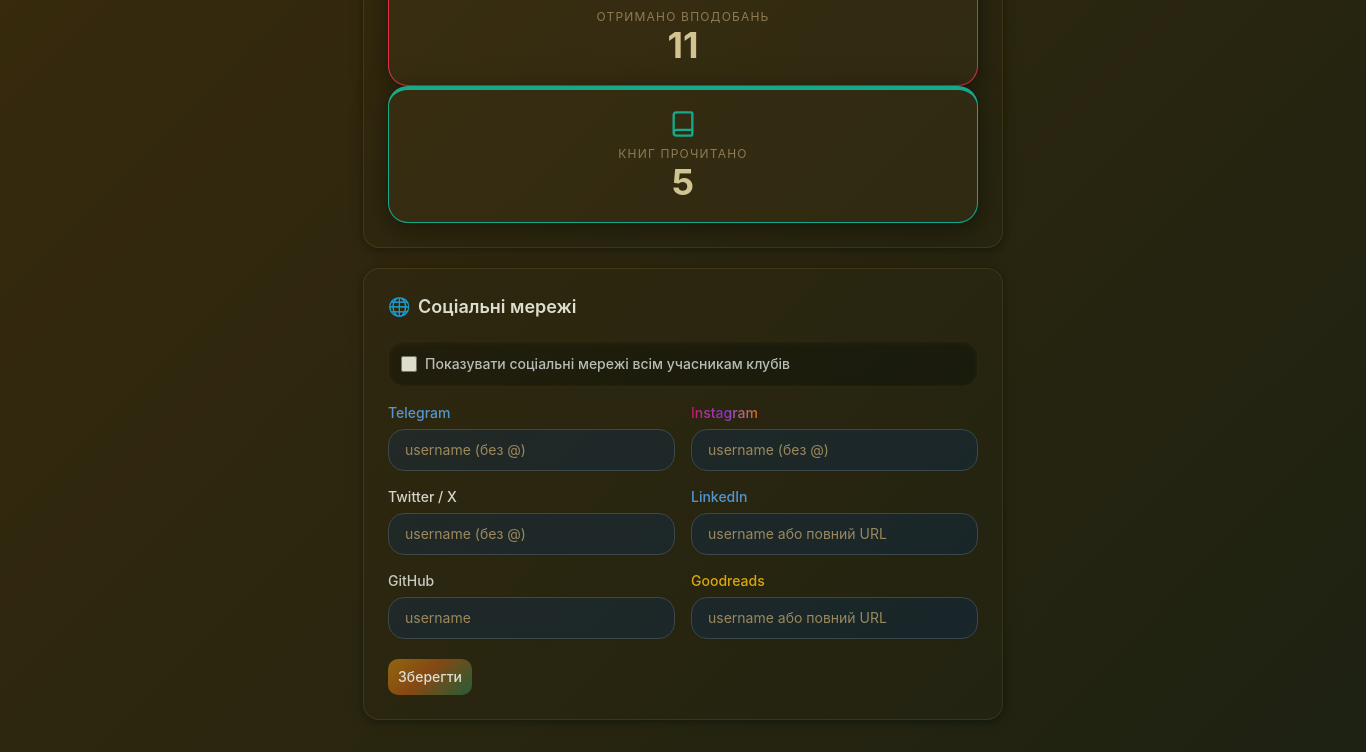
Test: ProfileView › social links › sends only the filled inputs, toasts, and refreshes the session
(page scrolled)
In the field with test id "social-telegram": (532, 450) [388, 429, 675, 471], type "ada"
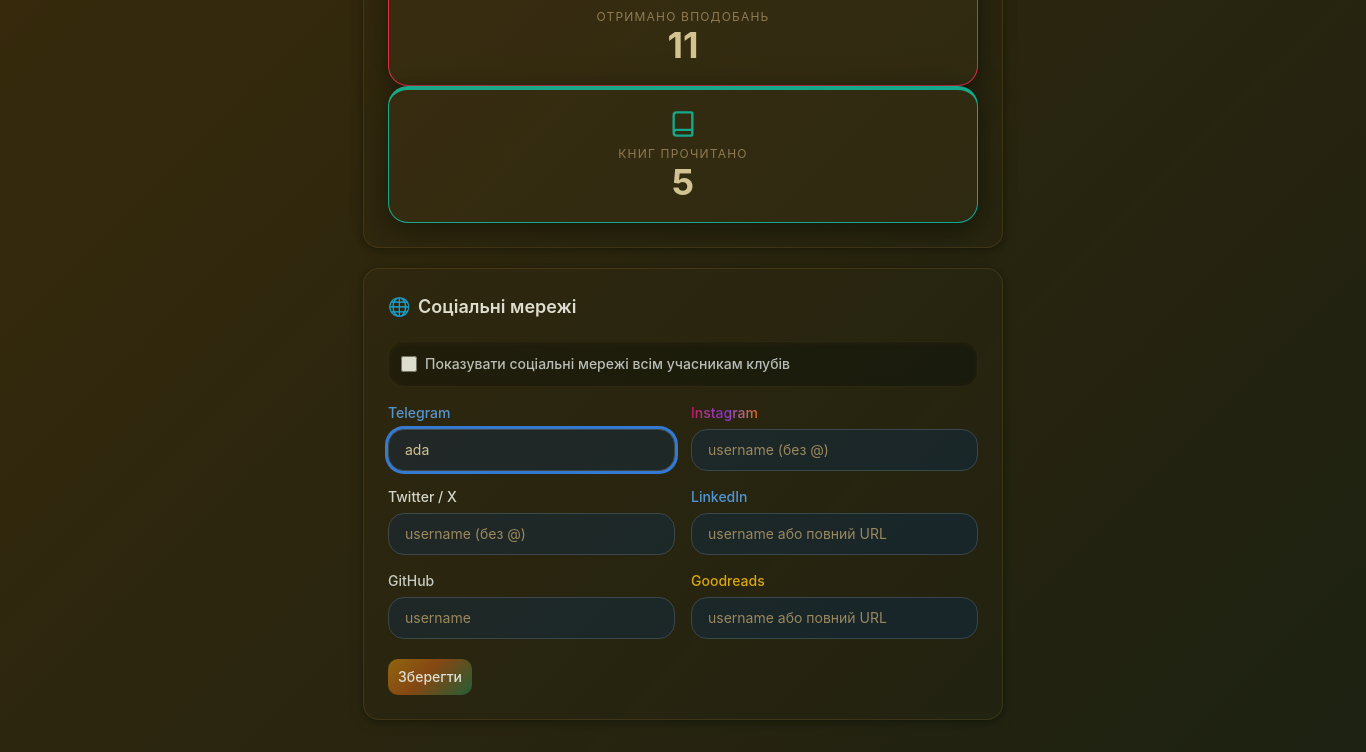
In the field with test id "social-github": (532, 618) [388, 597, 675, 639], type "lovelace"
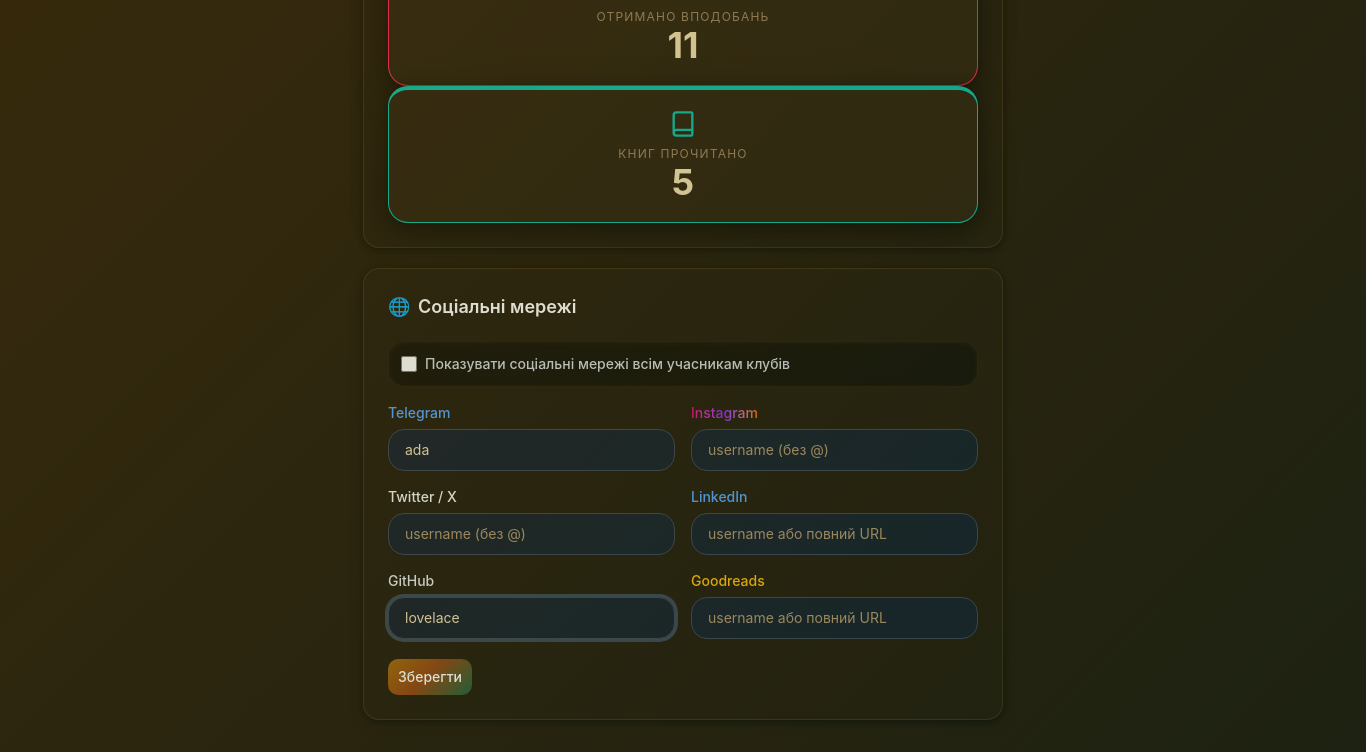
Click the button "Зберегти": (430, 677) [388, 659, 472, 695]
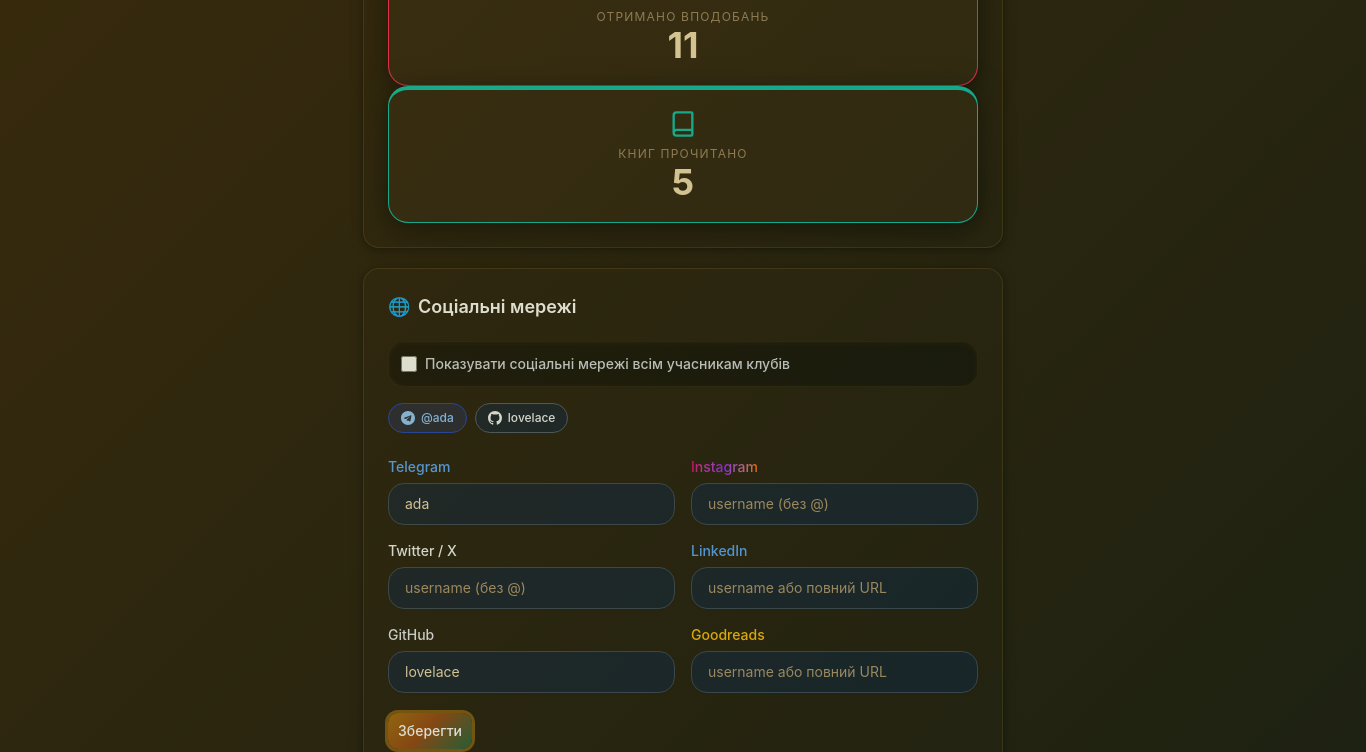
Now the link with aria-label "GitHub: lovelace" is shown, box [475, 403, 568, 433]
